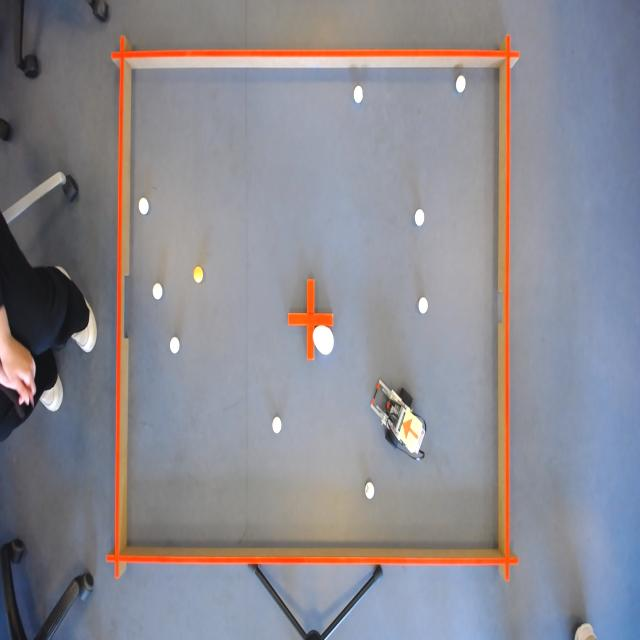cross: (287, 276, 335, 363)
egg: (310, 323, 336, 358)
orange_ball: (192, 261, 204, 285)
robot: (397, 408, 423, 456)
white_ball: (352, 82, 366, 107), (363, 478, 377, 502), (168, 333, 182, 357), (417, 294, 429, 320), (271, 412, 283, 438), (138, 194, 150, 219), (454, 72, 466, 96), (414, 207, 426, 230), (151, 281, 164, 302)
